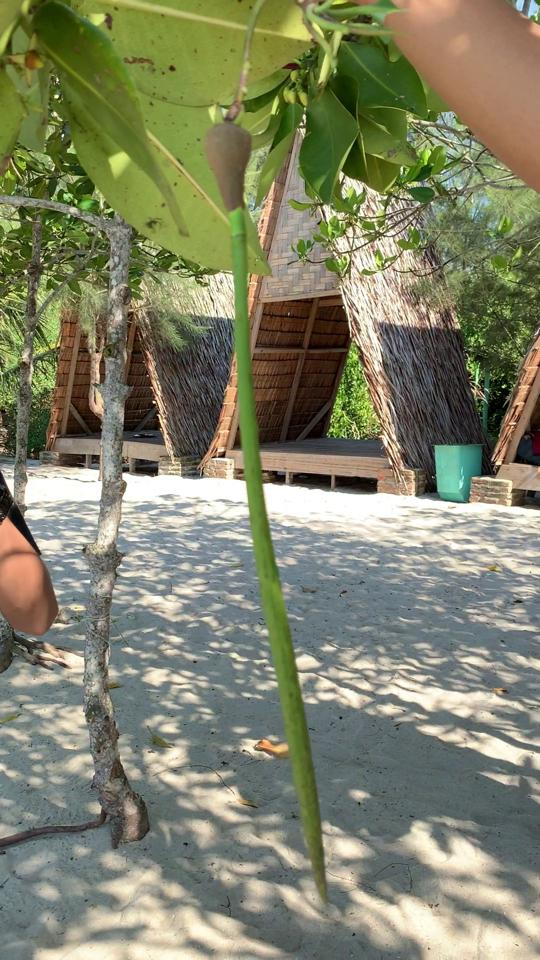setengah matang: (188, 100, 340, 919)
